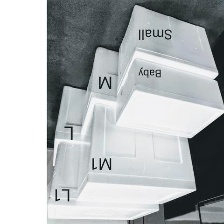foam_box: (75, 43, 208, 150), (72, 100, 199, 208), (50, 82, 191, 174), (109, 1, 223, 97), (47, 138, 161, 222), (113, 55, 224, 140)
